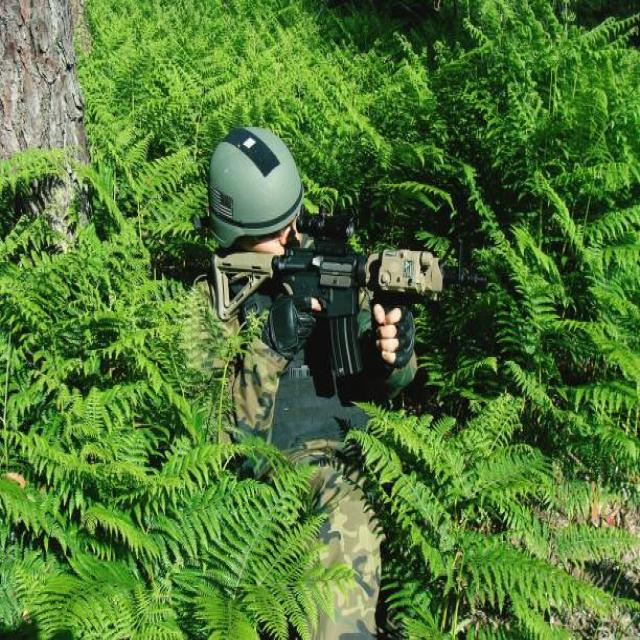soldier: (188, 118, 491, 585)
